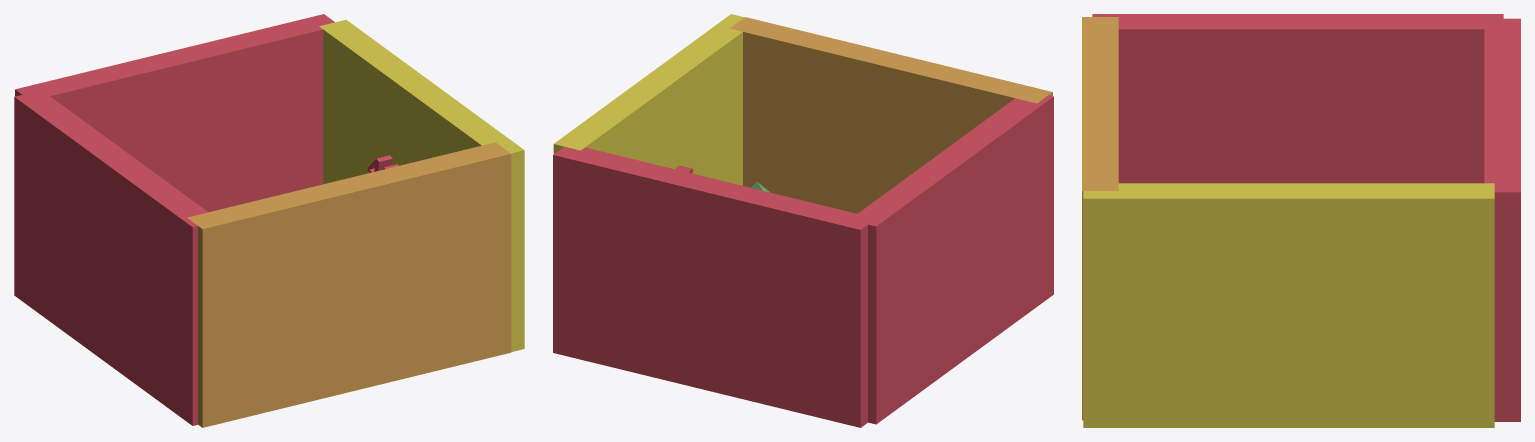
File: VRPROJ.glb
3 renders of one model, left to right at view 1: azimuth 30°, elevation 25°; view 2: azimuth 150°, elevation 25°; view 3: azimuth 270°, elevation 25°, orthographic. The views are drawn at different scales.
Parts seen in each view (by area): view 1: Mesh_Mesh_head_geo.001_lambert2SG.001; view 2: Mesh_Mesh_head_geo.001_lambert2SG.001; view 3: Mesh_Mesh_head_geo.001_lambert2SG.001.
Boxes of the visible parts, bbox=[...] form: Mesh_Mesh_head_geo.001_lambert2SG.001: bbox=[14, 14, 524, 427]; Mesh_Mesh_head_geo.001_lambert2SG.001: bbox=[553, 14, 1053, 427]; Mesh_Mesh_head_geo.001_lambert2SG.001: bbox=[1082, 14, 1520, 427].
Bounding box in the file's own units: 240 × 139 × 241.
